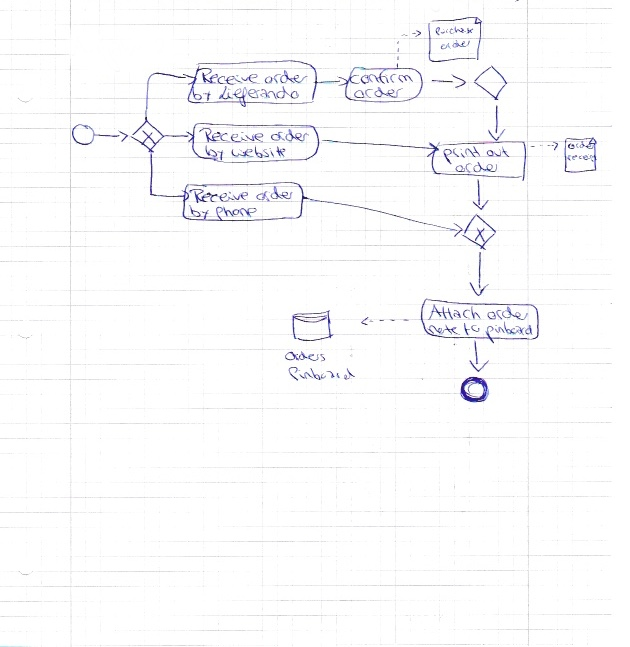Attach: (424, 303, 486, 323)
Confirm: (349, 73, 411, 85)
Lieferando: (216, 87, 301, 106)
Orders: (280, 348, 331, 365)
Phone: (210, 204, 262, 222)
Pinboard: (283, 365, 359, 384)
Purchase: (430, 23, 479, 39)
Receive: (198, 67, 260, 87), (185, 187, 253, 204), (200, 129, 269, 145)
by: (184, 202, 214, 221), (201, 146, 232, 160), (188, 89, 217, 102)
note: (424, 323, 463, 339)
order: (482, 304, 534, 323), (251, 184, 298, 205), (450, 158, 503, 176), (261, 69, 311, 87), (349, 86, 408, 100), (266, 128, 315, 143), (436, 38, 476, 52), (563, 138, 599, 152)
out: (482, 145, 514, 161)
pinboard: (480, 321, 538, 340)
print: (437, 146, 486, 163)
receipt: (562, 152, 602, 164)
to: (458, 321, 485, 339)
website: (227, 144, 291, 160)
